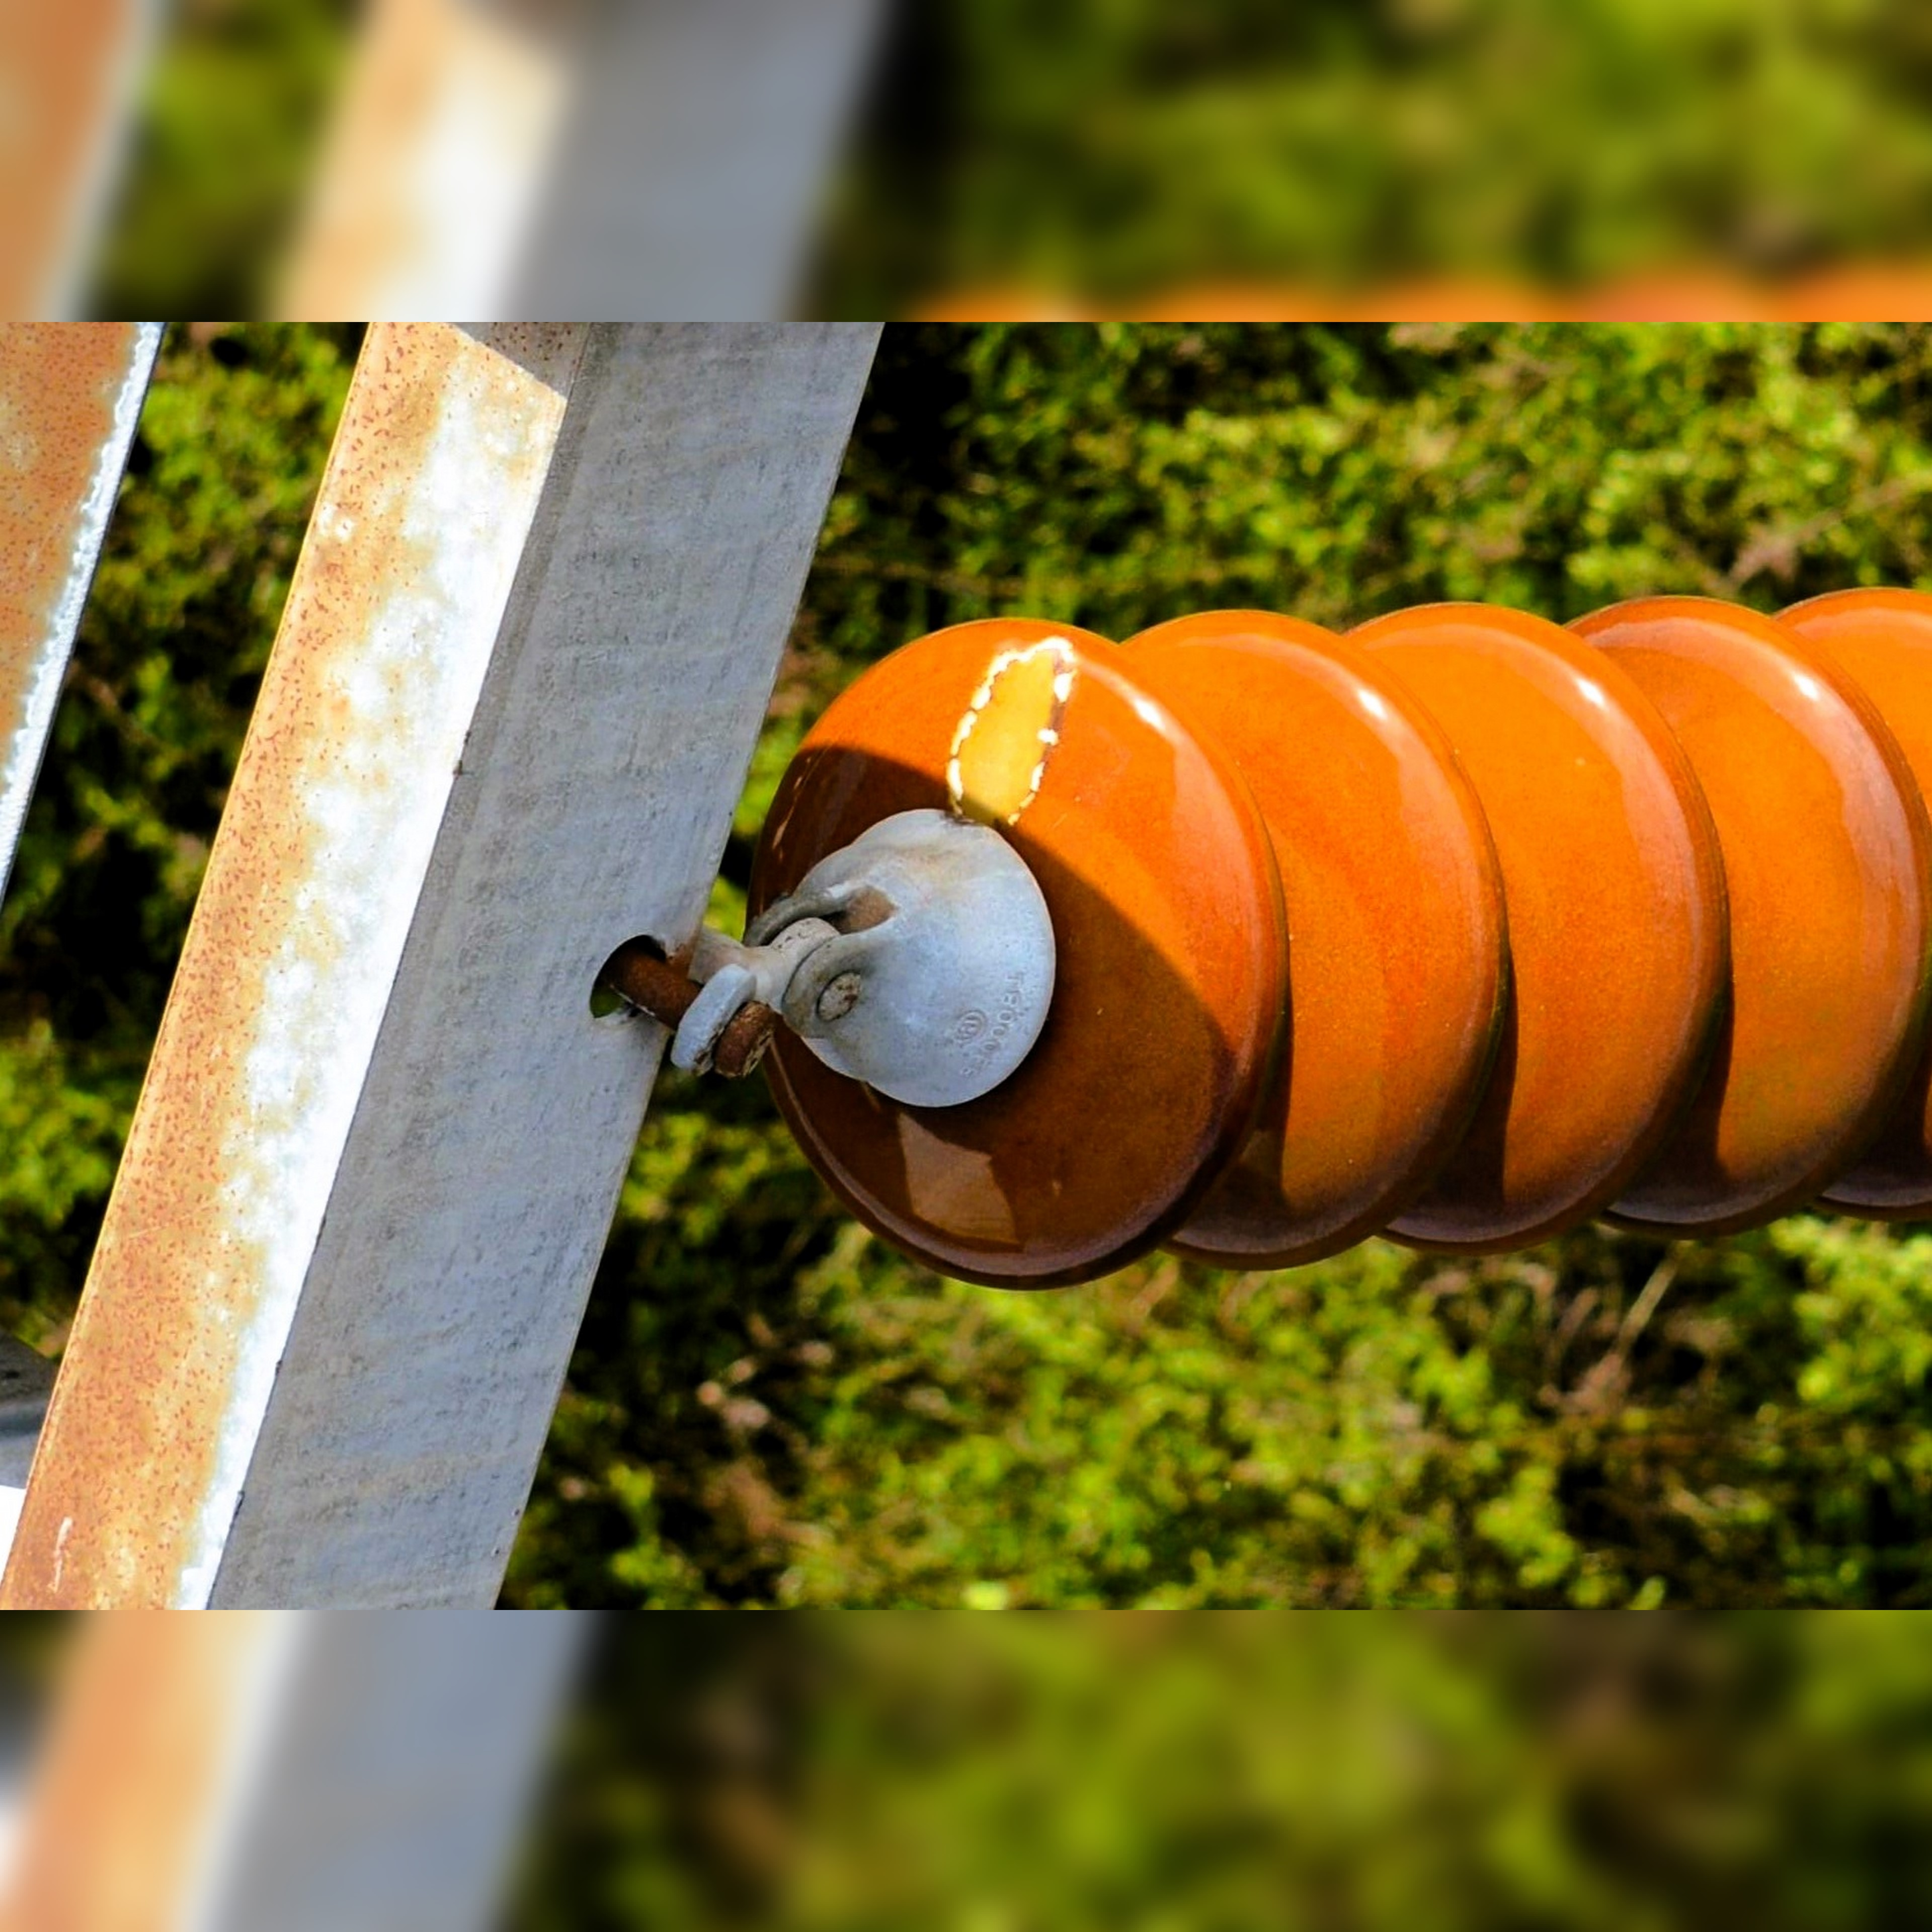Insulator flashover: (725, 605, 1286, 1295)
